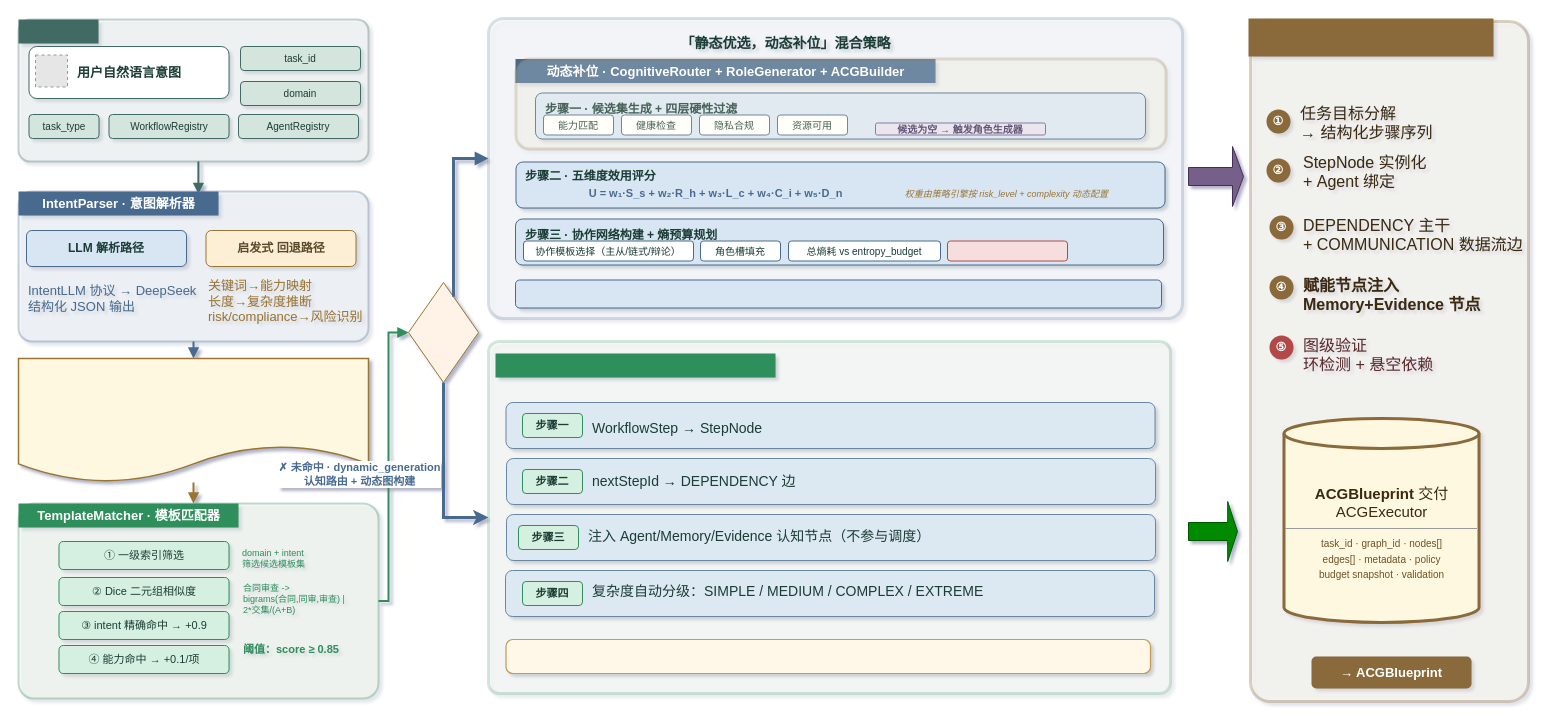
Some shapes in this 1553 by 726 pixel diagram are drawn without their labels. Grey dashed boxes stand in for pictures. Here are the shapes that lost their labels. From the top down, the centre of each, then its label:
At point 58,31: "输入层".
At point 1370,37: "ACGBuilder · 智能体计算图构建器 ← 静态/动态两条路径汇聚".
At point 1007,250: "超预算 → 回溯重选".
At point 838,293: "步骤四 · 最终检查 + 资源预留 + 绑定 → CollaborationNetwork".
At point 443,332: "命中？".
At point 635,365: "静态优选 · promote_workflow_to_acg()".
At point 193,420: "TaskSemanticProfile 任务语义画像".
At point 828,656: "规划预算控制 Token · Cost · Duration · Entropy · Concurrency".
